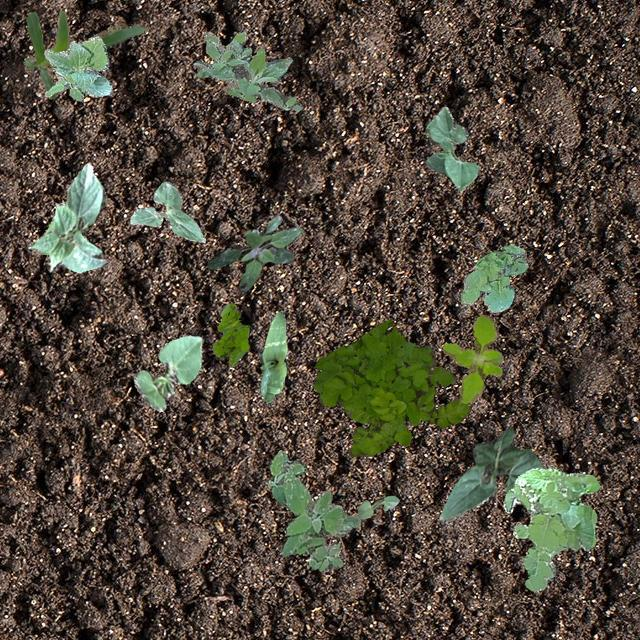crop: (22, 11, 146, 98), (438, 428, 542, 522), (28, 162, 106, 272), (132, 334, 202, 410), (130, 180, 204, 242), (424, 106, 478, 190), (42, 36, 112, 100), (258, 310, 286, 402), (357, 494, 398, 518)
weed: (312, 320, 469, 456), (502, 466, 598, 592), (268, 449, 360, 572), (192, 39, 302, 110), (206, 214, 302, 290), (442, 314, 502, 402), (461, 242, 526, 310), (212, 302, 248, 366), (202, 30, 245, 51)
